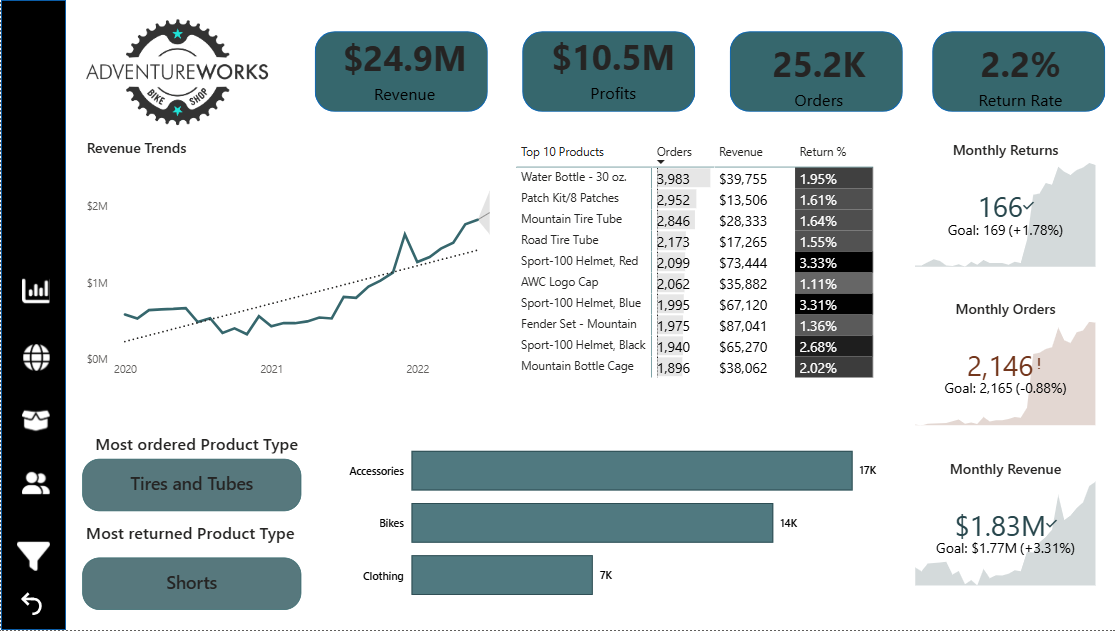

What the dashboard file says about the page in this screenshot:
{"tool":"powerbi","page":{"name":"Exec dashboard","canvas":[1280,720],"ordinal":0},"visuals":[{"type":"shape","title":"Navigation panel","box":[0,0,74.3,720],"z":0},{"type":"card","fields":{"Values":["Measure table.Total revenue"]},"box":[373.2,31.1,177.3,92.8],"z":0,"group":"g2"},{"type":"shape","box":[1063.8,36.1,197.8,92.1],"z":0,"group":"g1"},{"type":"actionButton","box":[20,300,39.6,65.2],"z":0,"group":"g3"},{"type":"image","title":"AW logo","box":[74.6,8.7,255,148],"z":1000},{"type":"shape","box":[358.5,36.1,197.8,92.1],"z":1000,"group":"g1"},{"type":"card","fields":{"Values":["Measure table.Total orders"]},"box":[847.6,37.6,175.5,92.3],"z":1000,"group":"g2"},{"type":"actionButton","box":[20,452.4,39.6,55.8],"z":1000,"group":"g3"},{"type":"card","fields":{"Values":["Measure table.Total profit"]},"box":[611.3,31.8,177.1,91.4],"z":2000,"group":"g2"},{"type":"group","id":"g1","title":"KPI bgs","box":[358.5,36.1,903.1,92.1],"z":2000},{"type":"shape","box":[596.1,36.1,197.8,92.1],"z":2000,"group":"g1"},{"type":"actionButton","box":[20,524.5,39.6,55.8],"z":2000,"group":"g3"},{"type":"group","id":"g2","title":"KPIs","box":[373.2,31.1,868.2,98.8],"z":3000},{"type":"shape","box":[832.4,36.1,197.8,92.1],"z":3000,"group":"g1"},{"type":"card","fields":{"Values":["Measure table.Return rate"]},"box":[1090.6,37.6,150.8,92.3],"z":3000,"group":"g2"},{"type":"actionButton","box":[20.7,381.5,38.2,54.7],"z":3000,"group":"g3"},{"type":"lineChart","title":"Revenue Trends","fields":{"Y":["Measure table.Total revenue"],"Category":["Calendar Lookup.Date Hierarchy.Start of Year","Calendar Lookup.Date Hierarchy.Start of Month","Calendar Lookup.Date Hierarchy.Start of Week"]},"box":[92.3,157.5,483.8,283.5],"z":4000},{"type":"kpi","title":"Monthly Revenue","fields":{"Indicator":["Measure table.Total revenue"],"TrendLine":["Calendar Lookup.Date Hierarchy.Start of Month"],"Goal":["Measure table.Previous month revenue"]},"box":[1040,524,216,150],"z":5000},{"type":"kpi","title":"Monthly Returns","fields":{"TrendLine":["Calendar Lookup.Date Hierarchy.Start of Month"],"Indicator":["Measure table.Total returns"],"Goal":["Measure table.Previous month returns"]},"box":[1040,160,216,150],"z":6000},{"type":"kpi","title":"Monthly Orders","fields":{"TrendLine":["Calendar Lookup.Date Hierarchy.Start of Month"],"Indicator":["Measure table.Total orders"],"Goal":["Measure table.Previous month orders"]},"box":[1040,342,216,150],"z":7000},{"type":"clusteredBarChart","title":"Orders by Category","fields":{"Category":["Product Categories Lookup.CategoryName"],"Y":["Measure table.Total orders"]},"box":[391.4,478.6,617.1,232.9],"z":8000},{"type":"pivotTable","fields":{"Rows":["Product Lookup.ProductName"],"Values":["Measure table.Total orders","Measure table.Total revenue","Measure table.Return rate"]},"box":[584.7,156.7,418,284.9],"z":9000},{"type":"card","fields":{"Values":["Min(Product Subcategories Lookup.SubcategoryName)"]},"box":[92.3,524.3,250,60],"z":10000},{"type":"textbox","title":"Most ordered Product Type","box":[88,494,270,24],"z":11000},{"type":"card","fields":{"Values":["Min(Product Subcategories Lookup.SubcategoryName)"]},"box":[92.3,636.9,250,60],"z":12000},{"type":"textbox","title":"Most returned Product Type","box":[92,596,250,34],"z":13000},{"type":"actionButton","box":[17.1,667.1,35.7,45.7],"z":14000},{"type":"group","id":"g3","title":"Navigation Buttons","box":[20,300,40,280],"z":15000},{"type":"actionButton","box":[14.3,612.9,47.1,45.7],"z":16000}]}

Visuals, with their boxes on the page's 1280x720 design canvas (x1, y1, x2, y2). These are canvas units, not pixel positions in the 1117x631 screenshot, which may show the page scaled, cropped or inside an application window:
"Navigation panel" shape: {"x1": 0, "y1": 0, "x2": 74, "y2": 720}
card - Measure table.Total revenue: {"x1": 373, "y1": 31, "x2": 550, "y2": 124}
shape: {"x1": 1064, "y1": 36, "x2": 1262, "y2": 128}
actionButton: {"x1": 20, "y1": 300, "x2": 60, "y2": 365}
"AW logo" image: {"x1": 75, "y1": 9, "x2": 330, "y2": 157}
shape: {"x1": 358, "y1": 36, "x2": 556, "y2": 128}
card - Measure table.Total orders: {"x1": 848, "y1": 38, "x2": 1023, "y2": 130}
actionButton: {"x1": 20, "y1": 452, "x2": 60, "y2": 508}
card - Measure table.Total profit: {"x1": 611, "y1": 32, "x2": 788, "y2": 123}
"KPI bgs" group: {"x1": 358, "y1": 36, "x2": 1262, "y2": 128}
shape: {"x1": 596, "y1": 36, "x2": 794, "y2": 128}
actionButton: {"x1": 20, "y1": 524, "x2": 60, "y2": 580}
"KPIs" group: {"x1": 373, "y1": 31, "x2": 1241, "y2": 130}
shape: {"x1": 832, "y1": 36, "x2": 1030, "y2": 128}
card - Measure table.Return rate: {"x1": 1091, "y1": 38, "x2": 1241, "y2": 130}
actionButton: {"x1": 21, "y1": 382, "x2": 59, "y2": 436}
"Revenue Trends" lineChart: {"x1": 92, "y1": 158, "x2": 576, "y2": 441}
"Monthly Revenue" kpi: {"x1": 1040, "y1": 524, "x2": 1256, "y2": 674}
"Monthly Returns" kpi: {"x1": 1040, "y1": 160, "x2": 1256, "y2": 310}
"Monthly Orders" kpi: {"x1": 1040, "y1": 342, "x2": 1256, "y2": 492}
"Orders by Category" clusteredBarChart: {"x1": 391, "y1": 479, "x2": 1008, "y2": 712}
pivotTable - Product Lookup.ProductName x Measure table.Total orders: {"x1": 585, "y1": 157, "x2": 1003, "y2": 442}
card - Min(Product Subcategories Lookup.SubcategoryName): {"x1": 92, "y1": 524, "x2": 342, "y2": 584}
"Most ordered Product Type" textbox: {"x1": 88, "y1": 494, "x2": 358, "y2": 518}
card - Min(Product Subcategories Lookup.SubcategoryName): {"x1": 92, "y1": 637, "x2": 342, "y2": 697}
"Most returned Product Type" textbox: {"x1": 92, "y1": 596, "x2": 342, "y2": 630}
actionButton: {"x1": 17, "y1": 667, "x2": 53, "y2": 713}
"Navigation Buttons" group: {"x1": 20, "y1": 300, "x2": 60, "y2": 580}
actionButton: {"x1": 14, "y1": 613, "x2": 61, "y2": 659}
